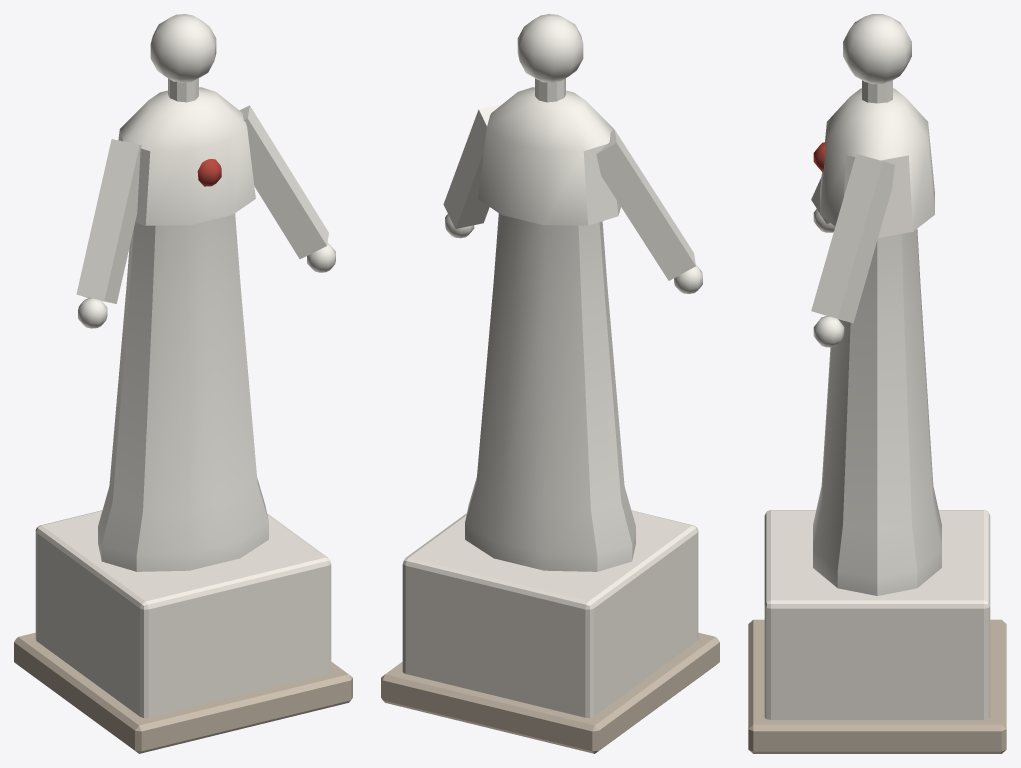
Rendered from estatua_sagrado_coracao.glb.
3 renders of one model, left to right at view 1: azimuth 30°, elevation 25°; view 2: azimuth 150°, elevation 25°; view 3: azimuth 270°, elevation 25°, orthographic. The views are drawn at different scales.
Parts seen in each view (by area): view 1: estatua_sagrado_coracao; view 2: estatua_sagrado_coracao; view 3: estatua_sagrado_coracao.
Boxes of the visible parts, box(x1,y1,x2,y2) form: estatua_sagrado_coracao: box(14, 14, 352, 753); estatua_sagrado_coracao: box(381, 14, 719, 753); estatua_sagrado_coracao: box(748, 14, 1006, 753).
Size of the model in its own units: 0.9305 by 2.34 by 0.8.
